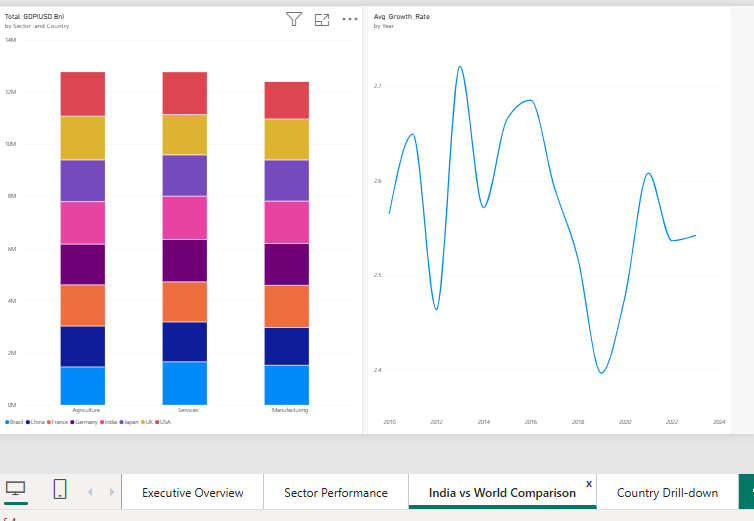

The page's visual inventory and layout, read from the dashboard file:
{"tool":"powerbi","page":{"name":"India vs World Comparison","canvas":[1920,1080],"ordinal":2},"visuals":[{"type":"columnChart","fields":{"Category":["Data_project---Economic Sector Analysis of India and Global Economies using Powe.Sector "],"Series":["Data_project---Economic Sector Analysis of India and Global Economies using Powe.Country "],"Y":["Data_project---Economic Sector Analysis of India and Global Economies using Powe.Total_GDP(USD Bn)"]},"box":[10,0,920,1080],"z":0},{"type":"lineChart","fields":{"Category":["Data_project---Economic Sector Analysis of India and Global Economies using Powe.Year"],"Y":["Data_project---Economic Sector Analysis of India and Global Economies using Powe.Avg_Growth_Rate"]},"box":[940,0,920,1080],"z":1}]}

Visuals, with their boxes on the page's 1920x1080 design canvas (x1, y1, x2, y2). These are canvas units, not pixel positions in the 754x521 screenshot, which may show the page scaled, cropped or inside an application window:
columnChart - Data_project---Economic Sector Analysis of India and Global Economies using Powe.Sector  x Data_project---Economic Sector Analysis of India and Global Economies using Powe.Country : [10, 0, 930, 1080]
lineChart - Data_project---Economic Sector Analysis of India and Global Economies using Powe.Year x Data_project---Economic Sector Analysis of India and Global Economies using Powe.Avg_Growth_Rate: [940, 0, 1860, 1080]
